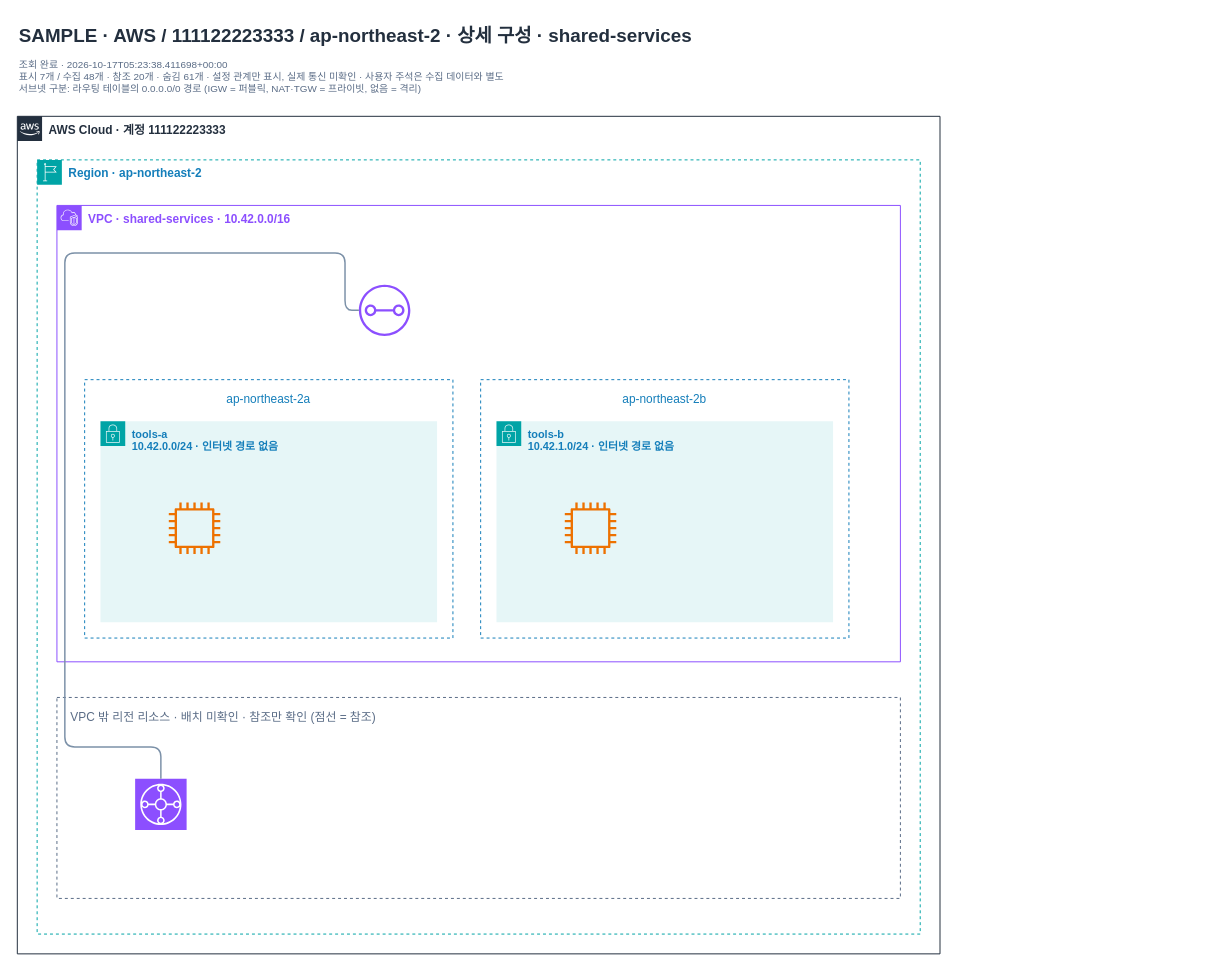
The diagram is 1223 pixels wide and 971 high, and some of its shapes have lost their labels. The centre of each missing label's shape, as x and y in pixels:
ci-runner: point 194,527
corp-tgw Transit Gateway: point 160,804
monitoring: point 590,527
shared-attachment TGW attachment: point 384,310
